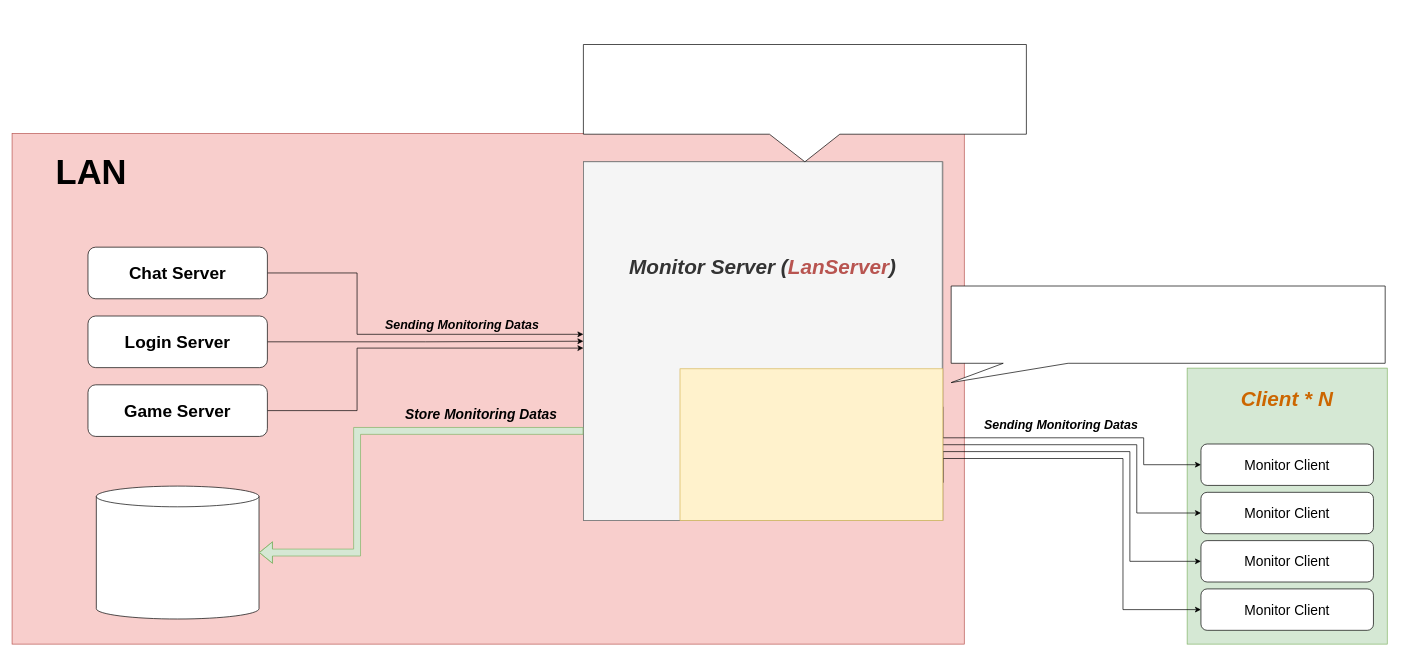
The diagram is 1420 pixels wide and 656 high, and some of its shapes have lost their labels. The shapes that lost their labels are listed below. From the top down, each one's centre as x and y in pixels, then its label:
(804,103): Monitor LanServer Job 1 . 서버가 보내는 모니터링 데이터 수집 Job 2 . 정해진 시간마다 모니터링 데이터를 DB에 저장
(1167,334): Monitor NetServer Job . 정해진 시간마다 모든 클라이언트 대상으로 모니터링 데이터 송신
(811,444): Monitor Server ( NetServer )
(177,552): DB
